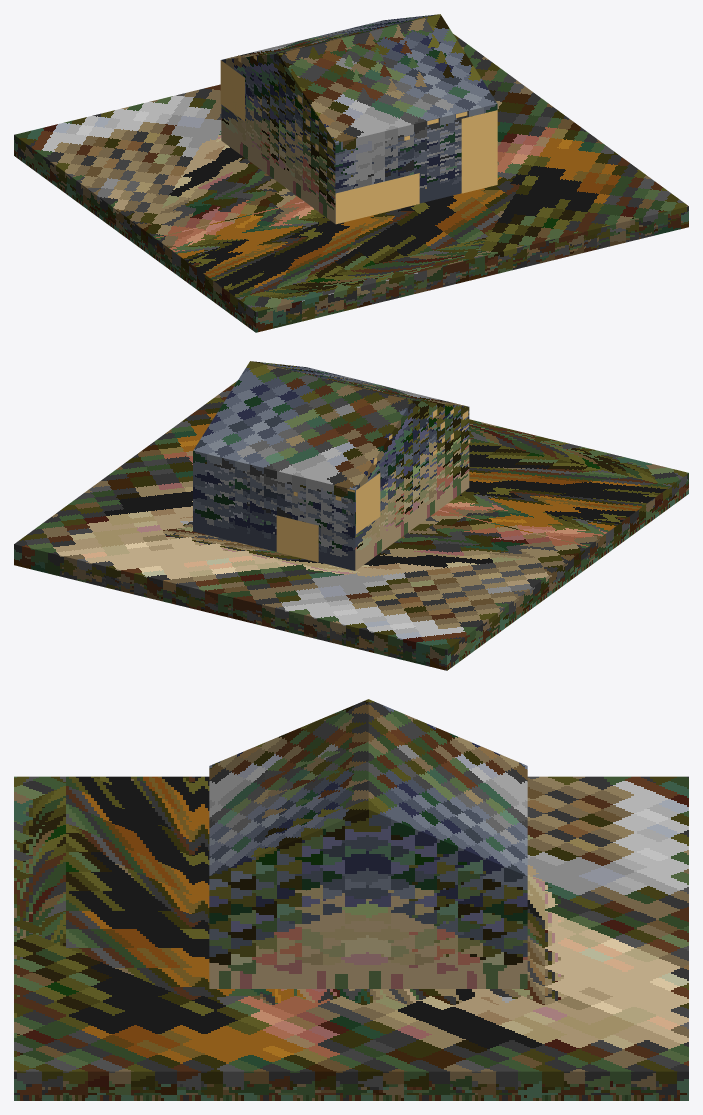
File: dum_51_domy_1.glb
3 views of the same model, one above another, from view 1: azimuth 30°, elevation 25°; view 2: azimuth 150°, elevation 25°; view 3: azimuth 270°, elevation 25° (orthographic). The views are drawn at different scales.
Parts seen in each view (by area): view 1: object 1, noc; view 2: object 1, noc; view 3: object 1.
Part boxes in pixels (x1,y1,x2,y2): object 1: [14, 14, 688, 332]; noc: [220, 54, 497, 224]; object 1: [14, 361, 688, 670]; noc: [276, 409, 470, 562]; object 1: [14, 699, 688, 1100].
Size of the model in its own units: 14.2 by 4.69 by 13.74.
1 material, 1 textured.
